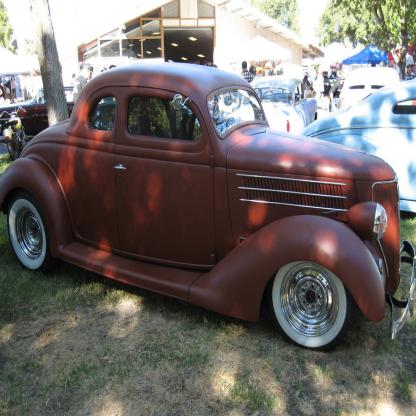Car: (0, 61, 415, 355), (297, 79, 415, 216), (0, 87, 117, 139), (225, 76, 318, 136), (336, 66, 400, 110)
